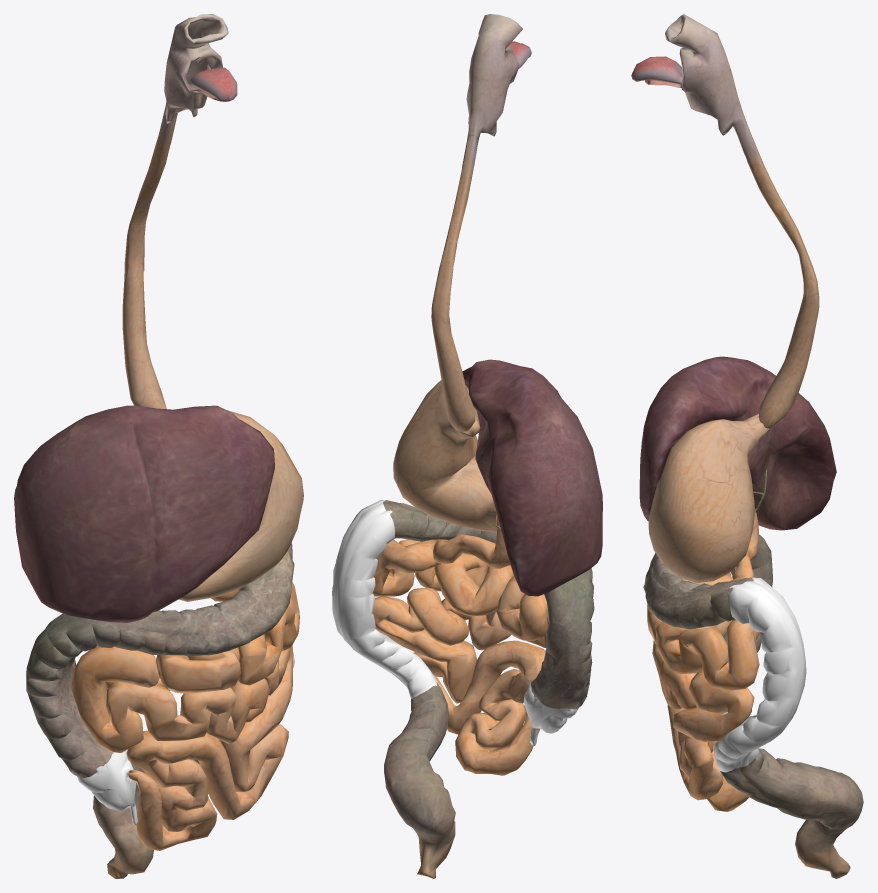
File: Digestive Lowpoly.fbx
3 views of the same model, side by side, from view 1: azimuth 30°, elevation 25°; view 2: azimuth 150°, elevation 25°; view 3: azimuth 270°, elevation 25° (orthographic). The views are drawn at different scales.
Parts seen in each view (by area): view 1: Level2_1, Level1, Level1_2, Level2, Level2_4, Level1_1; view 2: Level1, Level1_2, Level2_1, Level2, Level2_4; view 3: Level1_2, Level2_1, Level1, Level2_4, Level2, Level1_1.
Boxes of the visible parts, x1,y1,x2,y2 form: Level2_1: (14,405,274,622); Level1: (71,582,299,850); Level1_2: (26,542,294,878); Level2: (122,14,228,409); Level2_4: (179,410,303,601); Level1_1: (188,64,237,101); Level1: (372,514,548,775); Level1_2: (332,500,594,878); Level2_1: (462,359,602,596); Level2: (431,14,522,432); Level2_4: (393,380,496,532); Level1_2: (643,534,863,878); Level2_1: (639,356,836,530); Level1: (647,512,760,811); Level2_4: (648,414,768,582); Level2: (665,14,819,428); Level1_1: (631,56,682,88).
Bounding box in the file's own units: 28.68 × 22.5 × 91.85.
